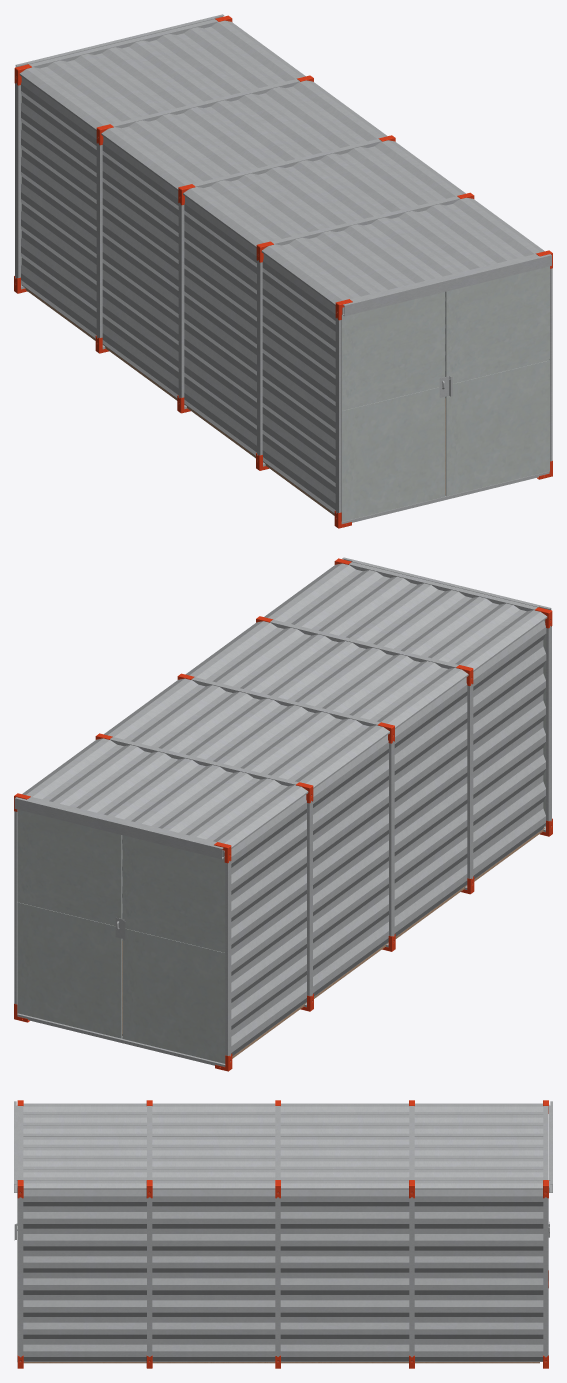
File: 12D_closed.glb
The picture shows the model from 3 angles, top to bottom: view 1: azimuth 30°, elevation 25°; view 2: azimuth 150°, elevation 25°; view 3: azimuth 270°, elevation 25°; orthographic projection. The views are drawn at different scales.
Visible parts, largest first — view 1: ceiling, leftWall, rightSideDoorWing.001, leftSideDoorWing, frontRim, middleBackRim.001, middleRim, gutter, backRim, middleFrontRim, floor, gutter.001; view 2: ceiling, leftWall, rightSideDoorWing.002, leftSideDoorWing.001, backRim, middleFrontRim, gutter.001, middleBackRim.001, middleRim, frontRim, floor, gutter; view 3: rightWall, ceiling, middleFrontRim, middleBackRim.001, backRim, middleRim, frontRim, floor, gutter.001, gutter.
Boxes of the visible parts, x1,y1,x2,y2 form: ceiling: [19, 20, 544, 305]; leftWall: [21, 77, 335, 513]; rightSideDoorWing.001: [440, 266, 549, 496]; leftSideDoorWing: [341, 292, 445, 521]; frontRim: [335, 254, 552, 523]; middleBackRim.001: [95, 75, 313, 353]; middleRim: [177, 135, 395, 413]; gutter: [342, 254, 551, 316]; backRim: [14, 15, 232, 293]; middleFrontRim: [256, 192, 474, 470]; floor: [25, 288, 445, 515]; gutter.001: [15, 14, 224, 67]; ceiling: [22, 563, 547, 848]; leftWall: [222, 620, 546, 1056]; rightSideDoorWing.002: [115, 835, 225, 1063]; leftSideDoorWing.001: [17, 809, 121, 1038]; backRim: [14, 793, 232, 1071]; middleFrontRim: [256, 616, 474, 894]; gutter.001: [14, 797, 224, 859]; middleBackRim.001: [95, 733, 313, 1011]; middleRim: [177, 673, 395, 951]; frontRim: [348, 562, 551, 832]; floor: [122, 827, 544, 1058]; gutter: [342, 557, 551, 609]; rightWall: [23, 1189, 543, 1361]; ceiling: [23, 1103, 543, 1189]; middleFrontRim: [146, 1100, 152, 1368]; middleBackRim.001: [409, 1100, 414, 1368]; backRim: [543, 1100, 548, 1368]; middleRim: [275, 1100, 280, 1368]; frontRim: [18, 1106, 23, 1361]; floor: [23, 1362, 539, 1363]; gutter.001: [549, 1101, 552, 1192]; gutter: [14, 1101, 17, 1192].
Bounding box in the file's own units: 23.18 × 23.06 × 61.48.
Materials: 12 (11 with a texture image).
